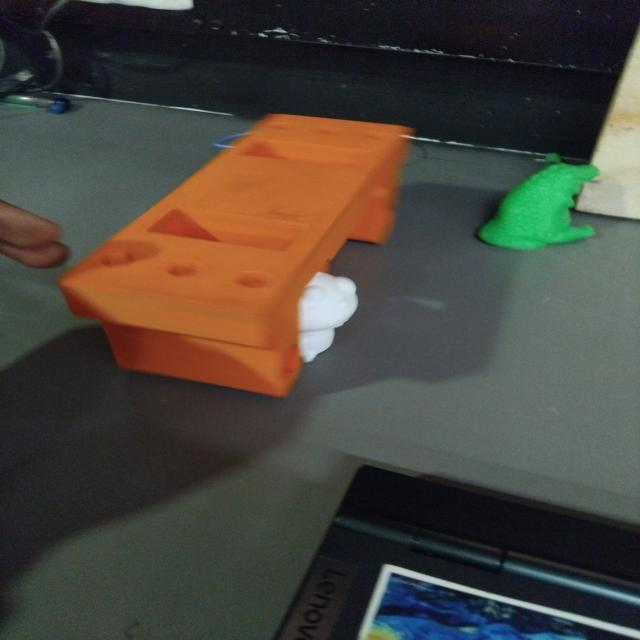Hongo: (294, 270, 366, 364)
